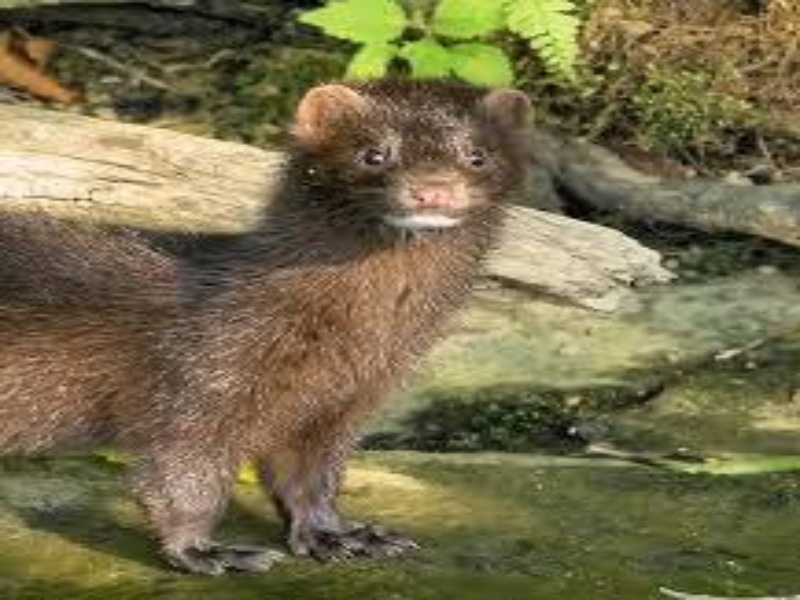minkish: (1, 77, 536, 577)
